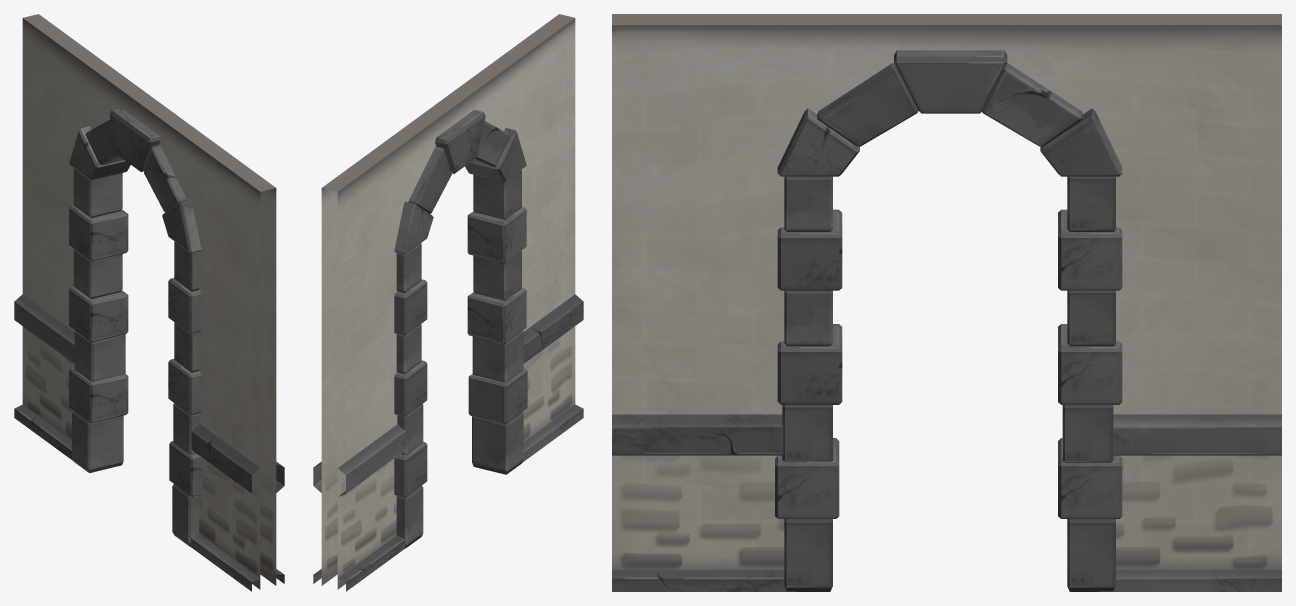
File: SM_wallDoor.fbx
3 renders of one model, left to right at view 1: azimuth 30°, elevation 25°; view 2: azimuth 150°, elevation 25°; view 3: azimuth 270°, elevation 25°, orthographic. The views are drawn at different scales.
Parts seen in each view (by area): view 1: SM_wallDoor; view 2: SM_wallDoor; view 3: SM_wallDoor.
Part boxes in pixels (<box>): SM_wallDoor: <box>14,14,284,591</box>; SM_wallDoor: <box>313,14,583,591</box>; SM_wallDoor: <box>612,14,1281,591</box>.
Bounding box in the file's own units: 0.5682 × 5.59 × 6.04.
